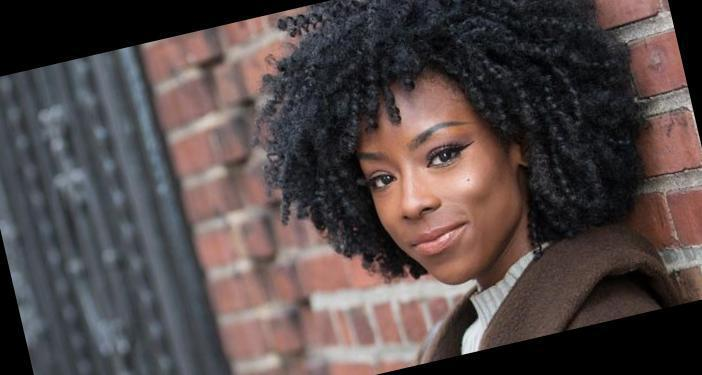Sober: (353, 101, 509, 275)
